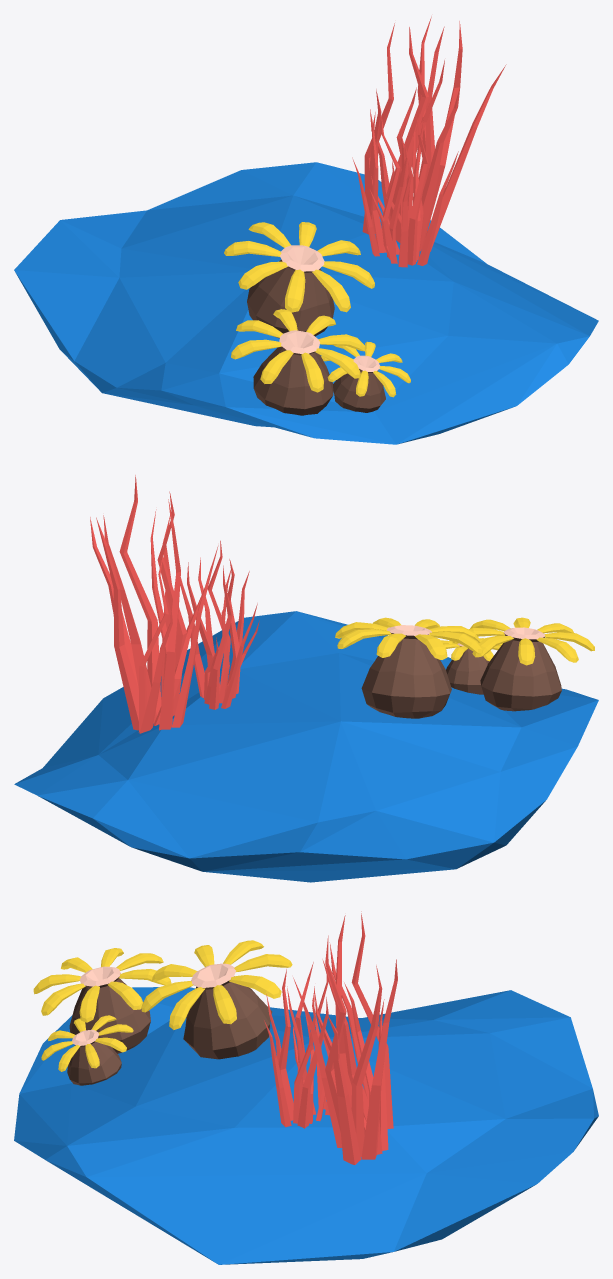
File: MiniCoral-2.glb
3 renders of one model, top to bottom at view 1: azimuth 30°, elevation 25°; view 2: azimuth 150°, elevation 25°; view 3: azimuth 270°, elevation 25°, orthographic. The views are drawn at different scales.
Parts seen in each view (by area): view 1: Coralls_020; view 2: Coralls_020; view 3: Coralls_020.
Boxes of the visible parts, x1,y1,x2,y2 form: Coralls_020: (14, 16, 598, 444); Coralls_020: (14, 475, 598, 882); Coralls_020: (14, 911, 598, 1264).
Bounding box in the file's own units: 1.77 × 1.24 × 1.91.
Materials: 2 (2 with a texture image).
